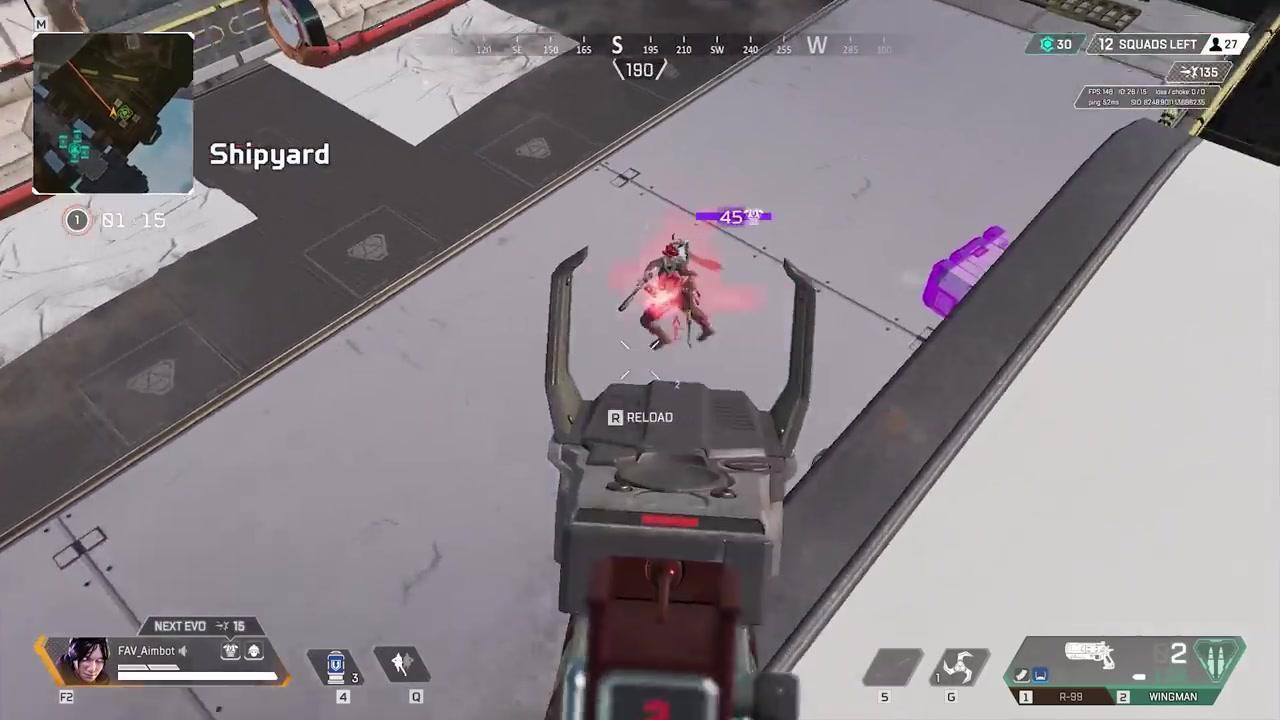avatar: (637, 240, 716, 353)
object: (643, 272, 684, 317)
